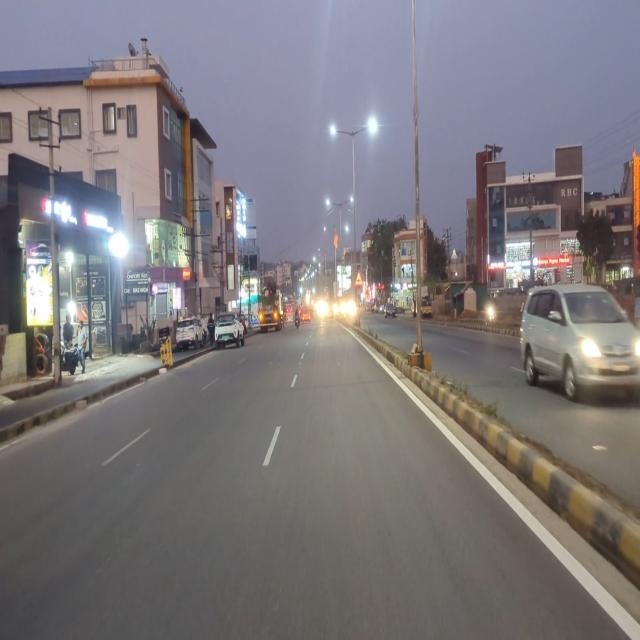bien_nguy_hiem: (353, 268, 364, 286)
